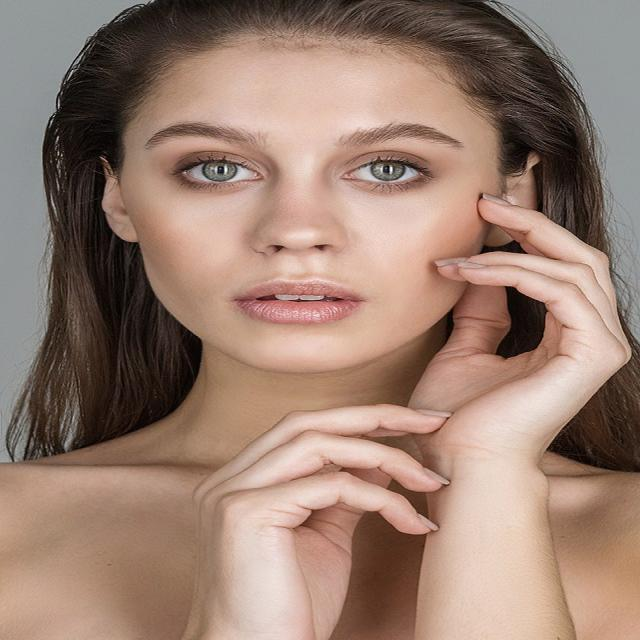earlobe: (97, 150, 140, 242)
